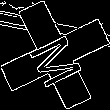M_NE: (22, 23, 88, 87)
